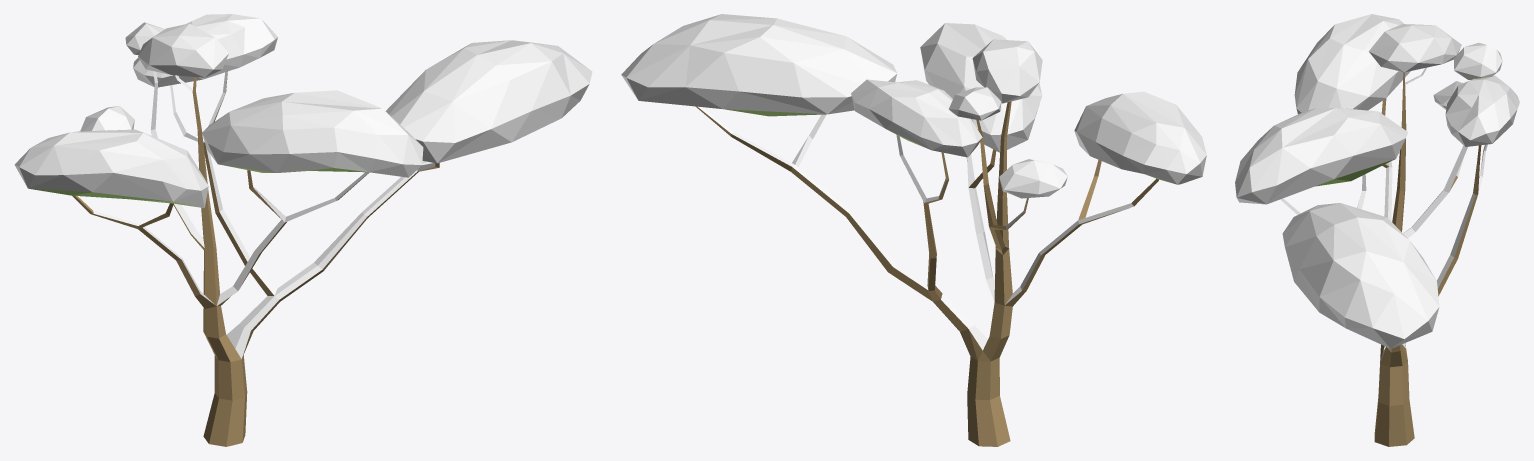
Rendered from Acacia_Tree_l_Snow_01_LOD.fbx.
The picture shows the model from 3 angles, left to right: view 1: azimuth 30°, elevation 25°; view 2: azimuth 150°, elevation 25°; view 3: azimuth 270°, elevation 25°; orthographic projection. The views are drawn at different scales.
Parts seen in each view (by area): view 1: Acacia_Tree_l_Snow_01_LOD0; view 2: Acacia_Tree_l_Snow_01_LOD0; view 3: Acacia_Tree_l_Snow_01_LOD0.
Boxes of the visible parts, x1,y1,x2,y2 form: Acacia_Tree_l_Snow_01_LOD0: (14, 14, 592, 446); Acacia_Tree_l_Snow_01_LOD0: (621, 14, 1206, 446); Acacia_Tree_l_Snow_01_LOD0: (1235, 14, 1519, 446).
Size of what is drawn, in the model's own units: 1722 by 1171 by 765.
